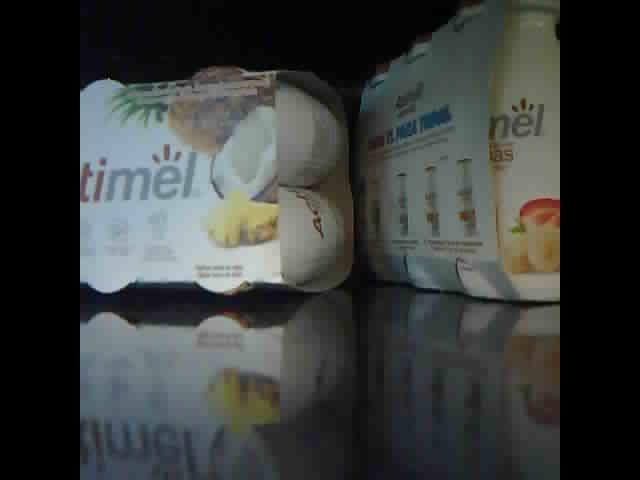actimel: (82, 64, 357, 294), (357, 1, 562, 302)
